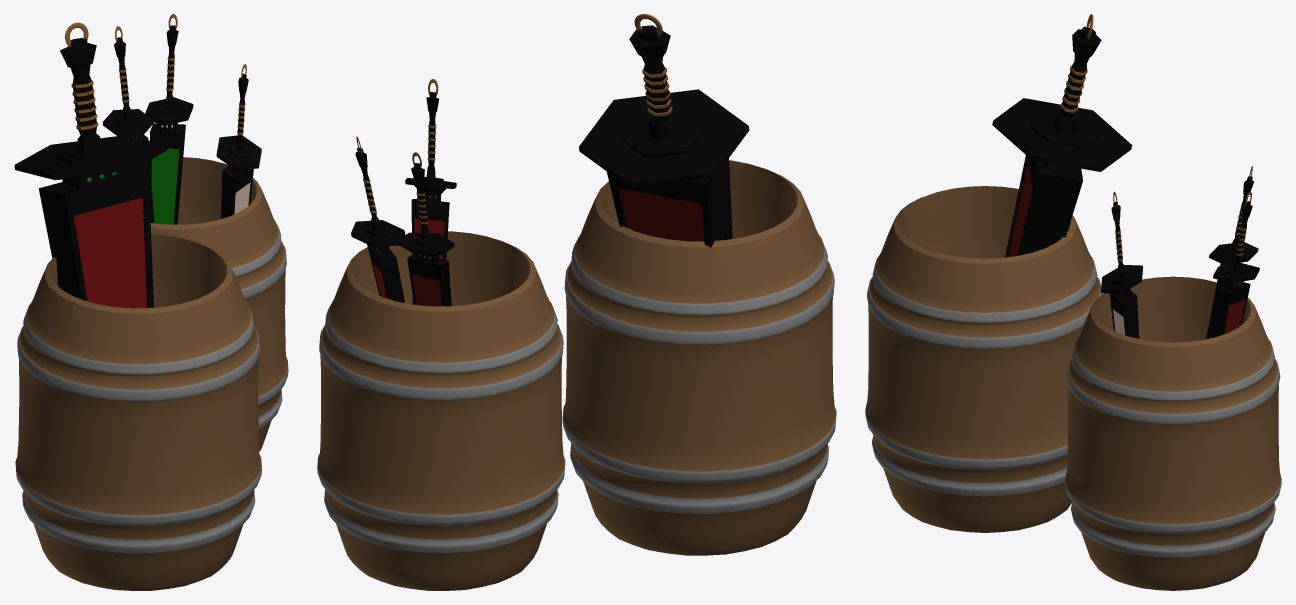
The model's file is barrrel.fbx.
3 renders of one model, left to right at view 1: azimuth 30°, elevation 25°; view 2: azimuth 150°, elevation 25°; view 3: azimuth 270°, elevation 25°, orthographic. The views are drawn at different scales.
Visible parts, largest first — view 1: Cylinder, Cylinder.004, Cylinder.001, Cylinder.005, Cylinder.002, Cylinder.003; view 2: Cylinder, Cylinder.001, Cylinder.004, Cylinder.003, Cylinder.005, Cylinder.002; view 3: Cylinder, Cylinder.001, Cylinder.004, Cylinder.005, Cylinder.002, Cylinder.003.
Boxes of the visible parts, <box> form: Cylinder: <box>15,234,261,590</box>; Cylinder.004: <box>14,22,167,308</box>; Cylinder.001: <box>150,157,288,451</box>; Cylinder.005: <box>145,14,193,224</box>; Cylinder.002: <box>216,64,261,218</box>; Cylinder.003: <box>102,26,154,223</box>; Cylinder: <box>562,160,836,555</box>; Cylinder.001: <box>317,231,565,590</box>; Cylinder.004: <box>579,14,749,247</box>; Cylinder.003: <box>397,152,454,306</box>; Cylinder.005: <box>351,136,405,302</box>; Cylinder.002: <box>405,79,456,304</box>; Cylinder: <box>865,186,1102,532</box>; Cylinder.001: <box>1065,276,1281,590</box>; Cylinder.004: <box>992,14,1132,257</box>; Cylinder.005: <box>1211,191,1259,337</box>; Cylinder.002: <box>1101,191,1142,338</box>; Cylinder.003: <box>1206,166,1258,339</box>.
Size of the model in its own units: 43.89 by 61.32 by 48.16.
